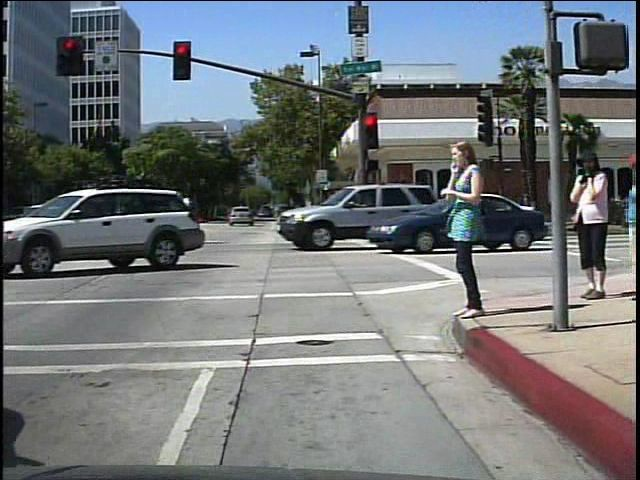person: (441, 131, 495, 320), (565, 145, 612, 305)
